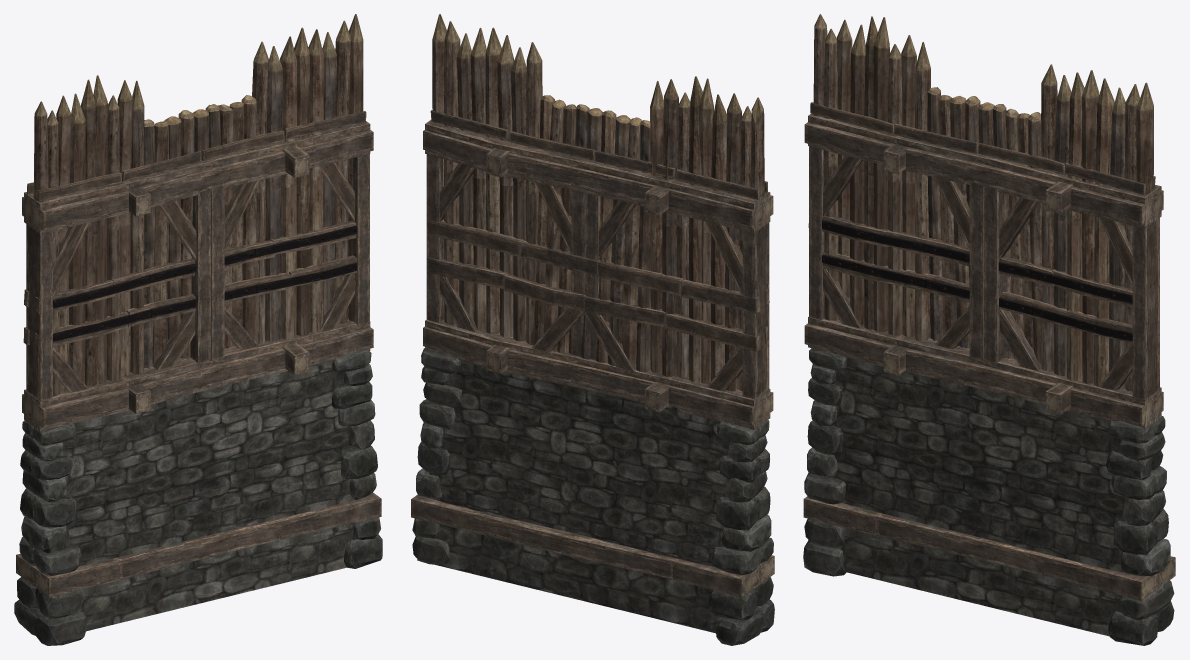
The model's file is jav_struc_def_truestone_walla_nopltfrm-transformed.glb.
3 views of the same model, side by side, from view 1: azimuth 30°, elevation 25°; view 2: azimuth 150°, elevation 25°; view 3: azimuth 330°, elevation 25° (orthographic). The views are drawn at different scales.
Parts seen in each view (by area): view 1: default; view 2: default; view 3: default.
Part boxes in pixels (left/top/right/bottom): default: left=14, top=14, right=382, bottom=645; default: left=411, top=14, right=774, bottom=645; default: left=803, top=14, right=1175, bottom=645.
Bounding box in the file's own units: 8.3 × 12.74 × 1.7.
3 materials, 3 textured.
